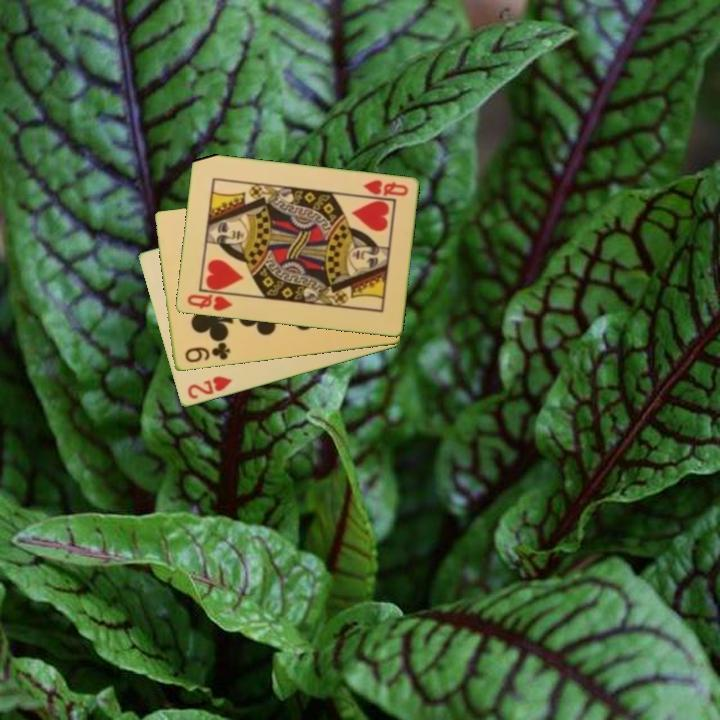2h: (184, 373, 235, 402)
9c: (181, 339, 233, 366)
Qh: (184, 291, 235, 314), (359, 177, 411, 199)
